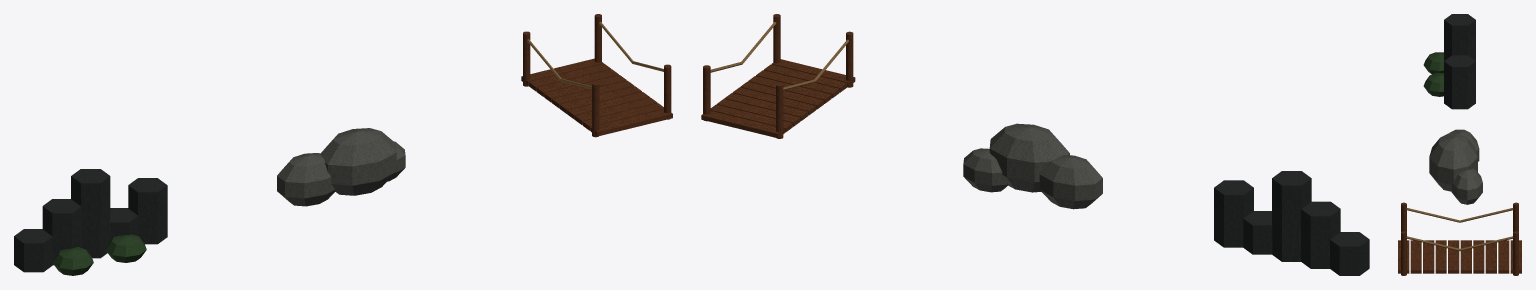
The model's file is KIT_no_safe_harbor_route.gltf.
3 renders of one model, left to right at view 1: azimuth 30°, elevation 25°; view 2: azimuth 150°, elevation 25°; view 3: azimuth 270°, elevation 25°, orthographic. The views are drawn at different scales.
Parts seen in each view (by area): view 1: 01_cliff, 03_bridge, 02_rock; view 2: 01_cliff, 03_bridge, 02_rock; view 3: 03_bridge, 01_cliff, 02_rock.
Part boxes in pixels (bbox=[...]): 01_cliff: bbox=[14, 169, 167, 275]; 03_bridge: bbox=[521, 14, 672, 137]; 02_rock: bbox=[277, 128, 405, 206]; 01_cliff: bbox=[1214, 171, 1369, 275]; 03_bridge: bbox=[701, 14, 855, 138]; 02_rock: bbox=[963, 123, 1102, 209]; 03_bridge: bbox=[1398, 202, 1521, 275]; 01_cliff: bbox=[1423, 14, 1475, 109]; 02_rock: bbox=[1429, 129, 1482, 204].
Bounding box in the file's own units: 13.41 × 1.75 × 2.87.
Materials: 5 (5 with a texture image).
